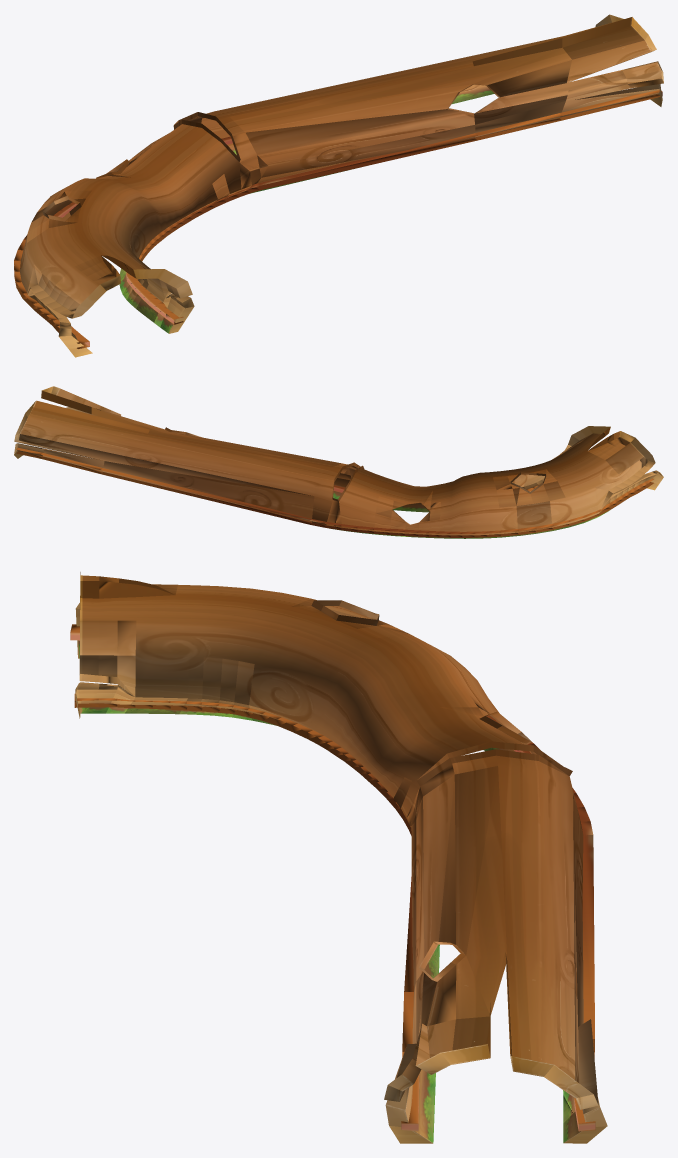
The model's file is rc_01_bud_02.FBX.
3 views of the same model, one above another, from view 1: azimuth 30°, elevation 25°; view 2: azimuth 150°, elevation 25°; view 3: azimuth 270°, elevation 25° (orthographic). The views are drawn at different scales.
Parts seen in each view (by area): view 1: 对象004; view 2: 对象004; view 3: 对象004.
Part boxes in pixels (left/top/right/bottom): 对象004: left=14, top=14, right=663, bottom=357; 对象004: left=14, top=386, right=663, bottom=538; 对象004: left=70, top=572, right=607, bottom=1143.
Size of the model in its own units: 27913 by 12405 by 2729.
